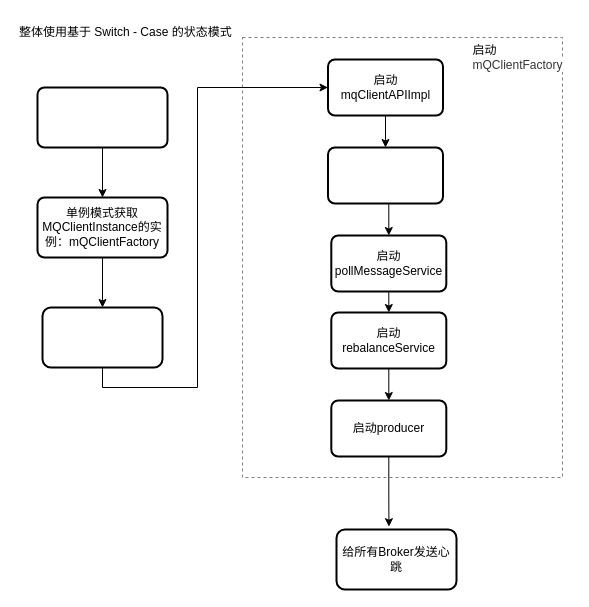
Image size: 589x607. Some labels were removed from this diagram. The centre of each missing label's shape, as x and y in pixels:
"producer配置检查" belongs at (x=102, y=117).
"启动各种定时任务" belongs at (x=385, y=175).
"在mQClientFactory中注册自己" belongs at (x=102, y=337).
